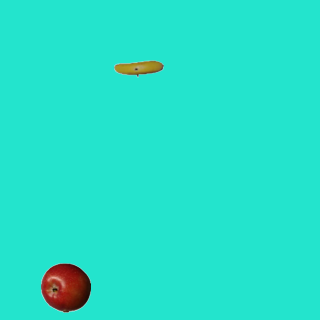Apple Braeburn: (40, 262, 90, 312)
Banana: (113, 43, 163, 93)
